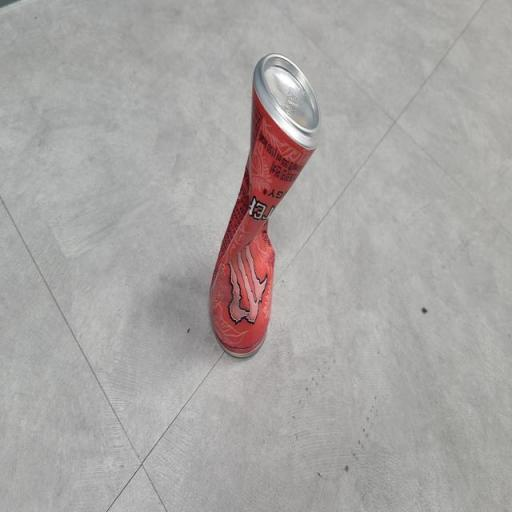metal: (193, 46, 329, 390)
